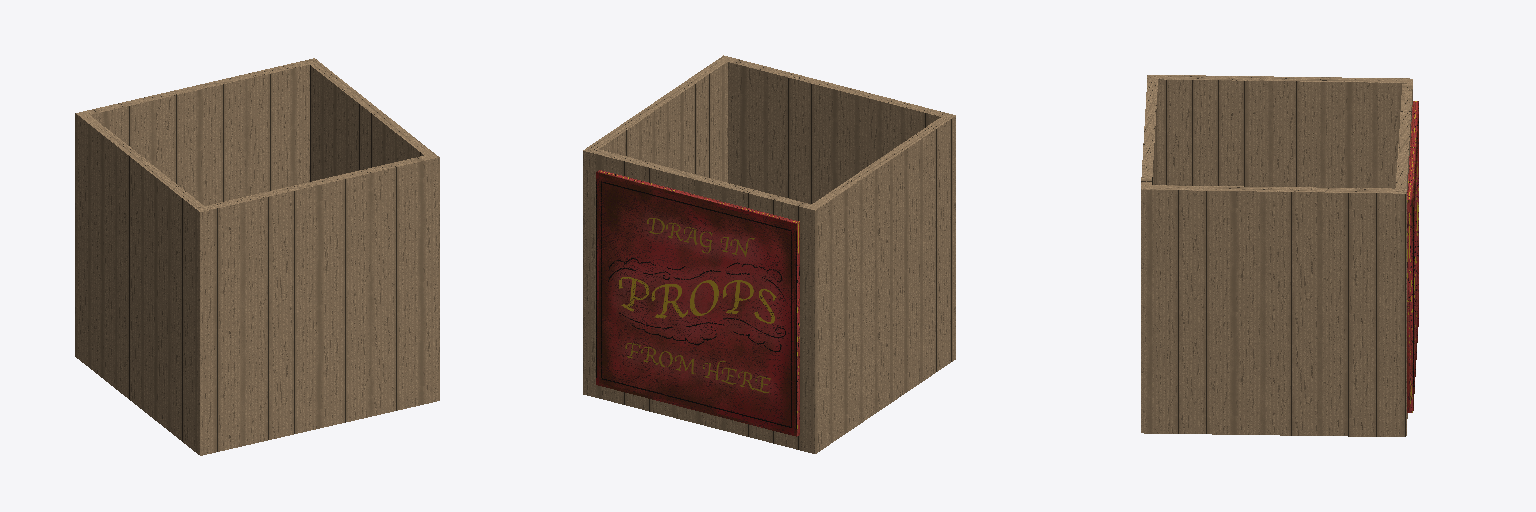
The picture shows the model from 3 angles: view 1: azimuth 30°, elevation 25°; view 2: azimuth 150°, elevation 25°; view 3: azimuth 270°, elevation 25°; orthographic projection.
Parts seen in each view (by area): view 1: pCube19; view 2: pCube19; view 3: pCube19.
Part boxes in pixels (bbox=[...]): pCube19: bbox=[75, 58, 439, 455]; pCube19: bbox=[583, 55, 955, 453]; pCube19: bbox=[1141, 75, 1418, 436].
Bounding box in the file's own units: 10.3 × 9.83 × 10.19.
2 materials, 2 textured.